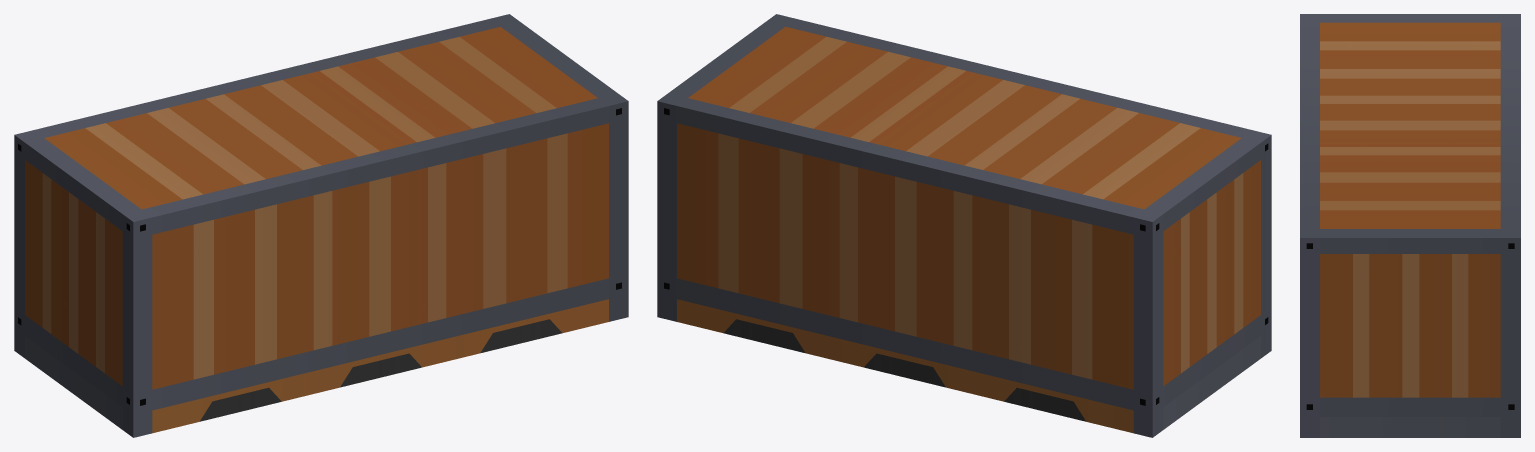
File: SM_Container_1.FBX
3 views of the same model, side by side, from view 1: azimuth 30°, elevation 25°; view 2: azimuth 150°, elevation 25°; view 3: azimuth 270°, elevation 25° (orthographic). The views are drawn at different scales.
Parts seen in each view (by area): view 1: SM_Container_1; view 2: SM_Container_1; view 3: SM_Container_1.
Part boxes in pixels (x1=…): SM_Container_1: x1=14, y1=14, x2=628, y2=437; SM_Container_1: x1=657, y1=14, x2=1271, y2=437; SM_Container_1: x1=1300, y1=14, x2=1520, y2=437.
Size of what is drawn, in the model's own units: 600 by 250 by 250.
